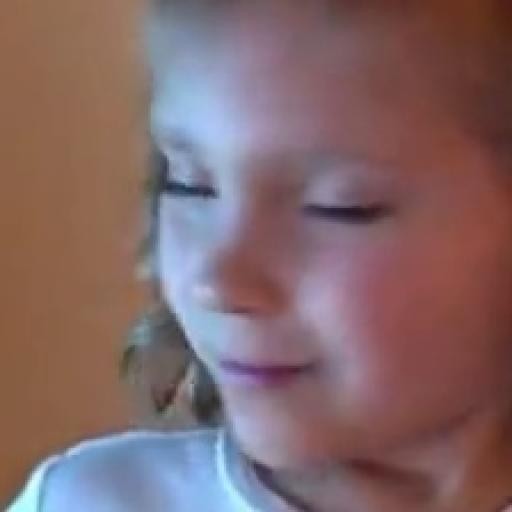Autism: (82, 0, 512, 493), (79, 26, 512, 480)
